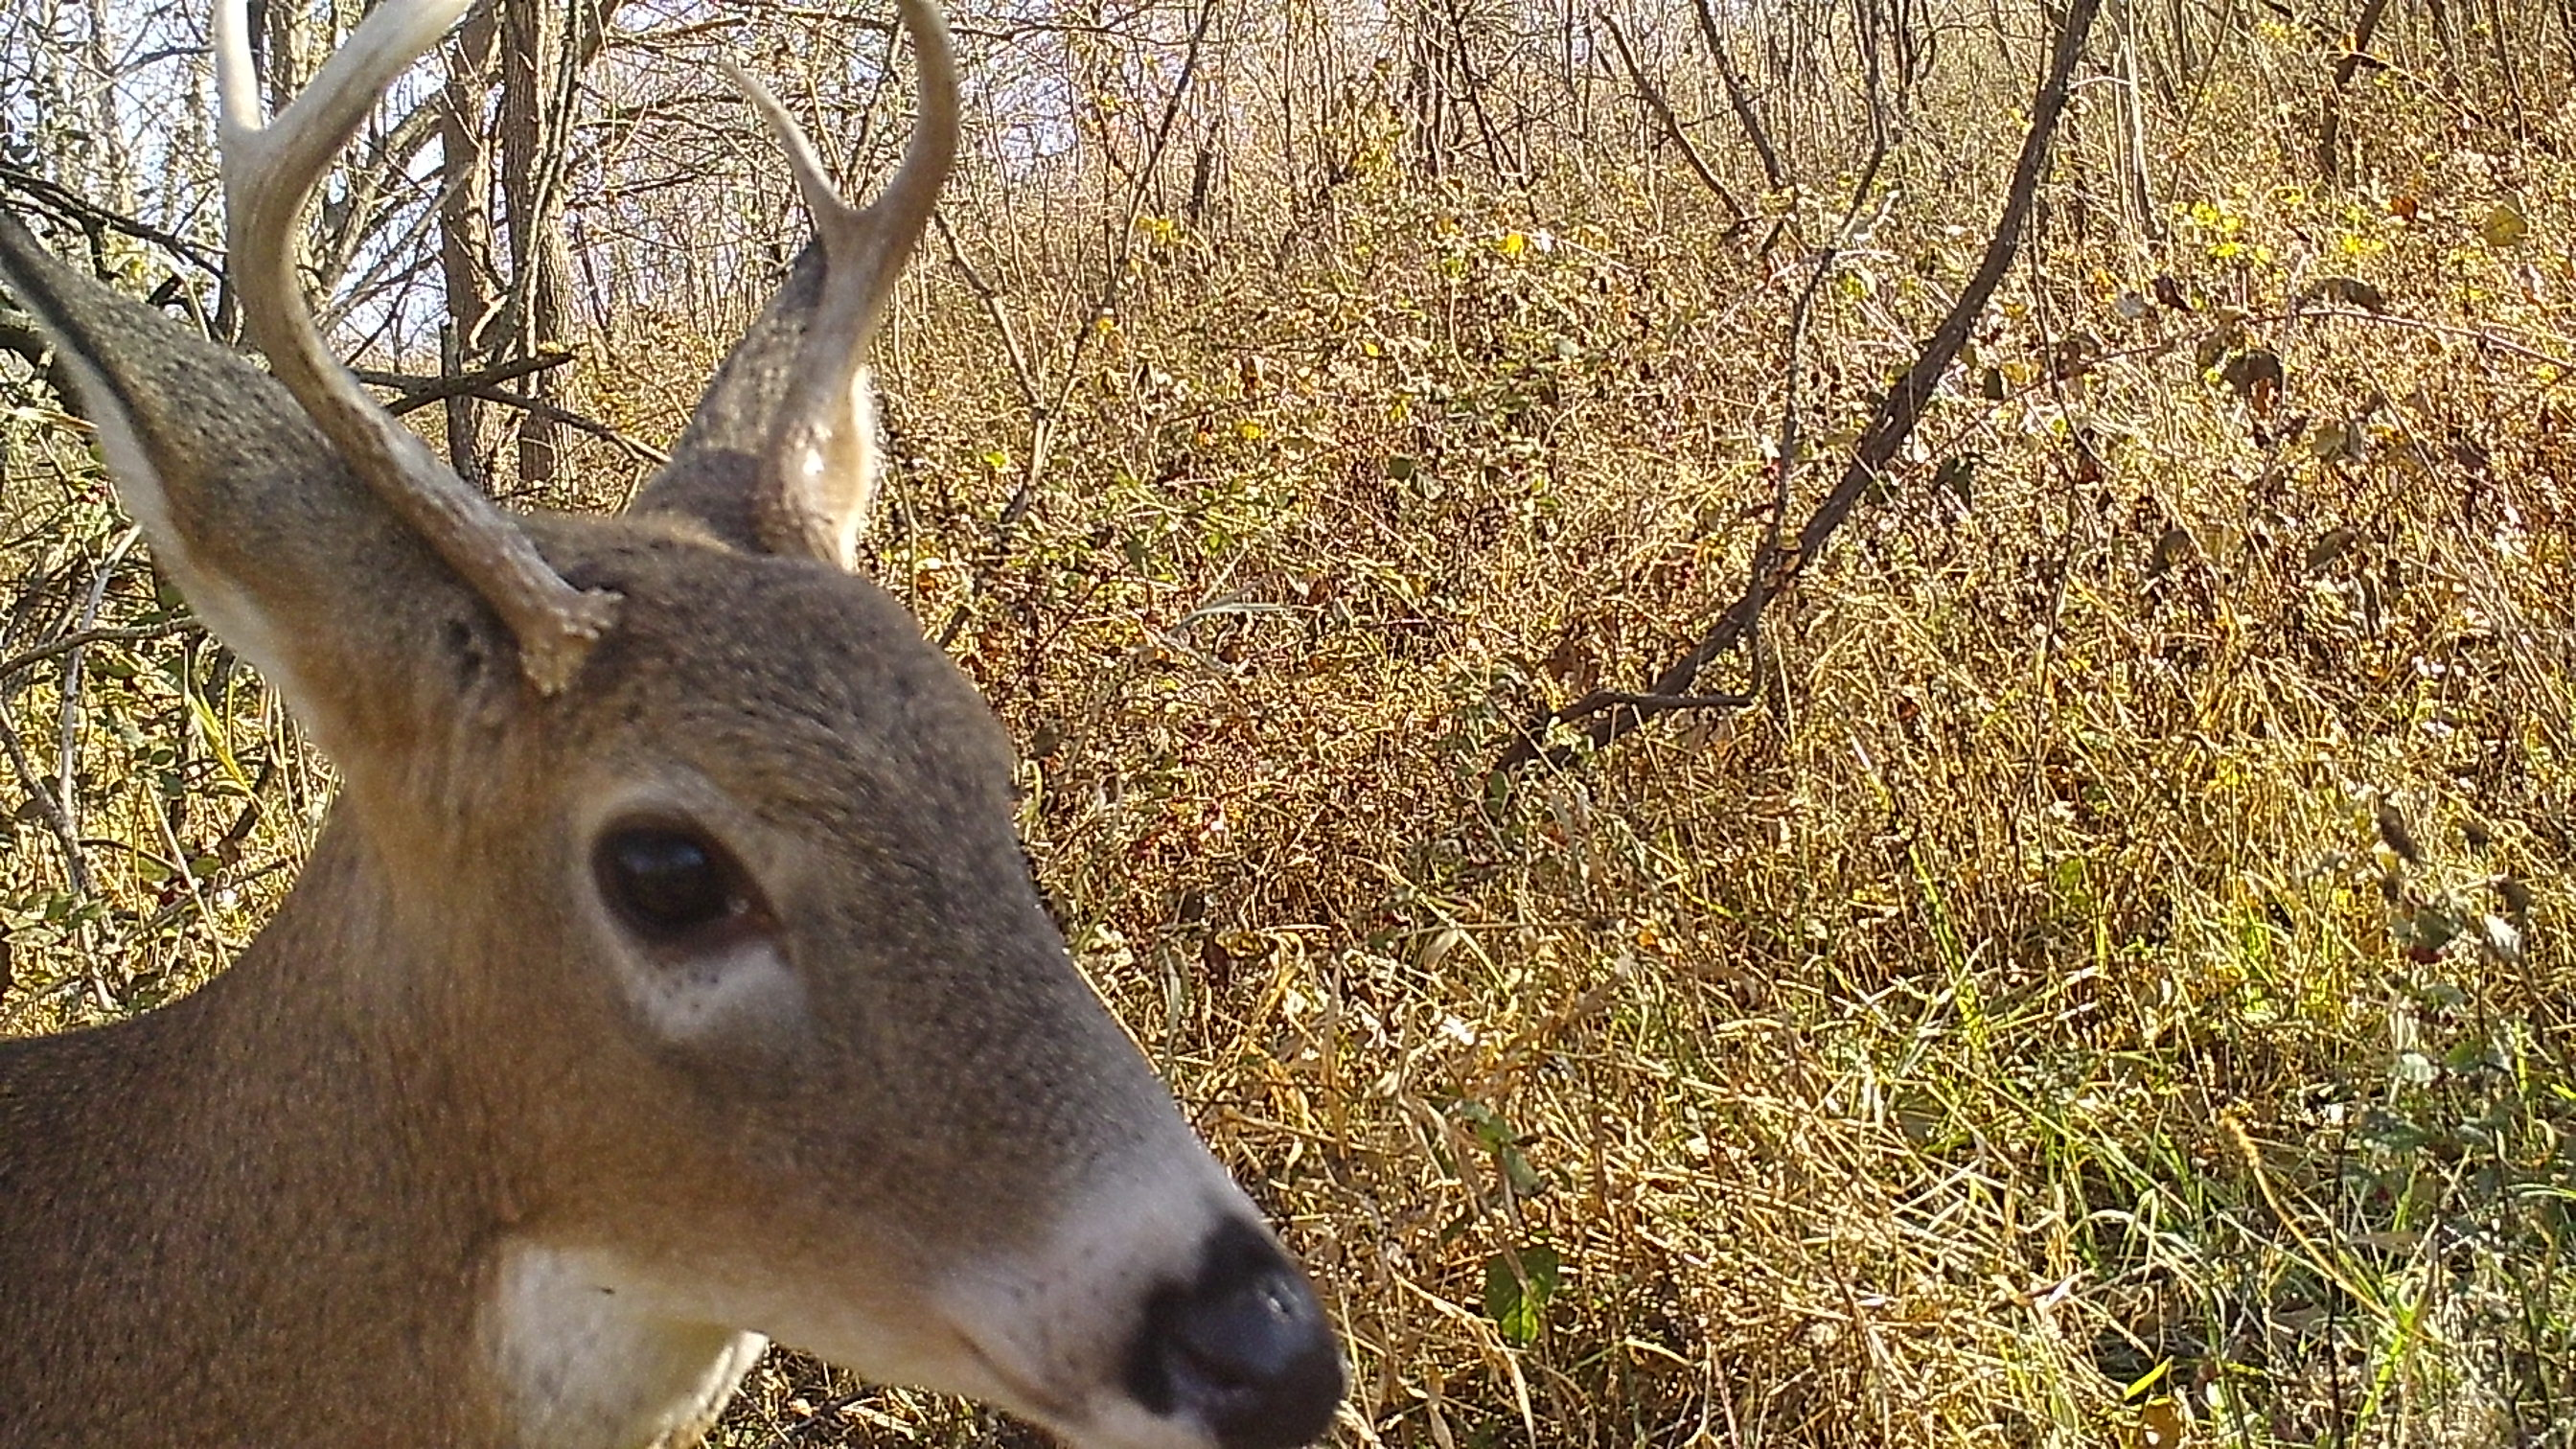DeerBuck: (1, 1, 1354, 1449)
DeerBuckHead: (1, 1, 1357, 1449)
